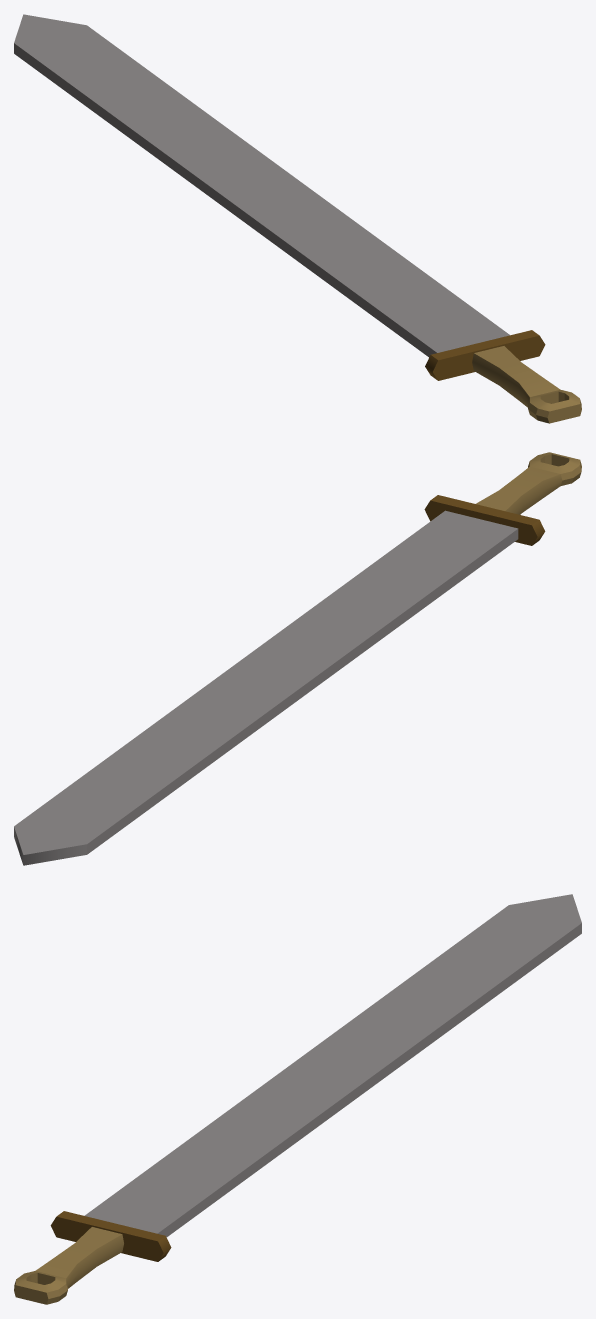
The model's file is mesh_long_sword.fbx.
The picture shows the model from 3 angles, top to bottom: view 1: azimuth 30°, elevation 25°; view 2: azimuth 150°, elevation 25°; view 3: azimuth 330°, elevation 25°; orthographic projection.
Visible parts, largest first — view 1: long_sword; view 2: long_sword; view 3: long_sword.
Boxes of the visible parts, <box> form: long_sword: <box>14,14,581,423</box>; long_sword: <box>14,452,581,865</box>; long_sword: <box>14,894,581,1304</box>.
Size of the model in its own units: 22.15 by 3.88 by 184.
1 material, 1 textured.
